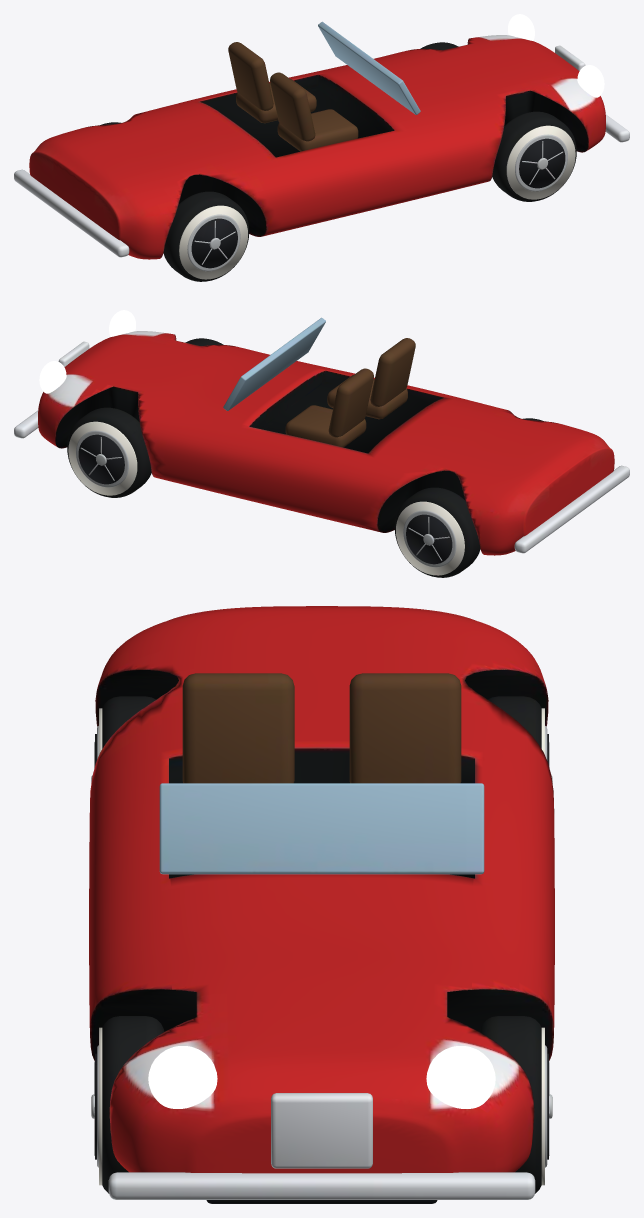
File: car-classic.glb
3 views of the same model, one above another, from view 1: azimuth 30°, elevation 25°; view 2: azimuth 150°, elevation 25°; view 3: azimuth 270°, elevation 25° (orthographic). The views are drawn at different scales.
Visible parts, largest first — view 1: car-classic; view 2: car-classic; view 3: car-classic.
Part boxes in pixels (x1,y1,x2,y2): car-classic: [14, 14, 629, 281]; car-classic: [14, 310, 629, 577]; car-classic: [89, 606, 554, 1203].
Size of the model in its own units: 4.44 by 1.25 by 1.75.
12 materials, 12 textured.
